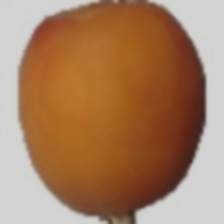apricot: (29, 6, 211, 178)
